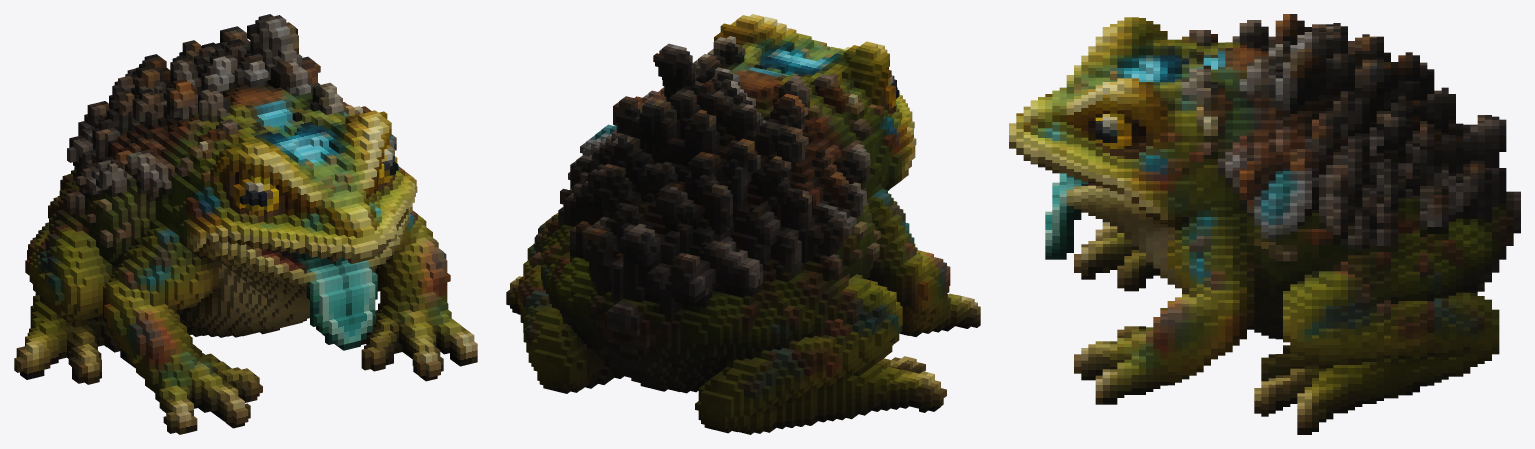
Rendered from u_crapaud.glb.
3 renders of one model, left to right at view 1: azimuth 30°, elevation 25°; view 2: azimuth 150°, elevation 25°; view 3: azimuth 270°, elevation 25°, orthographic. The views are drawn at different scales.
Parts seen in each view (by area): view 1: crapaud_body; view 2: crapaud_body; view 3: crapaud_body.
Part boxes in pixels (box(x1,y1,x2,y2)): crapaud_body: box(14, 14, 477, 434); crapaud_body: box(506, 14, 980, 434); crapaud_body: box(1009, 14, 1520, 434).
Size of the model in its own units: 1.73 by 1.17 by 1.7.
Materials: 1 (1 with a texture image).
